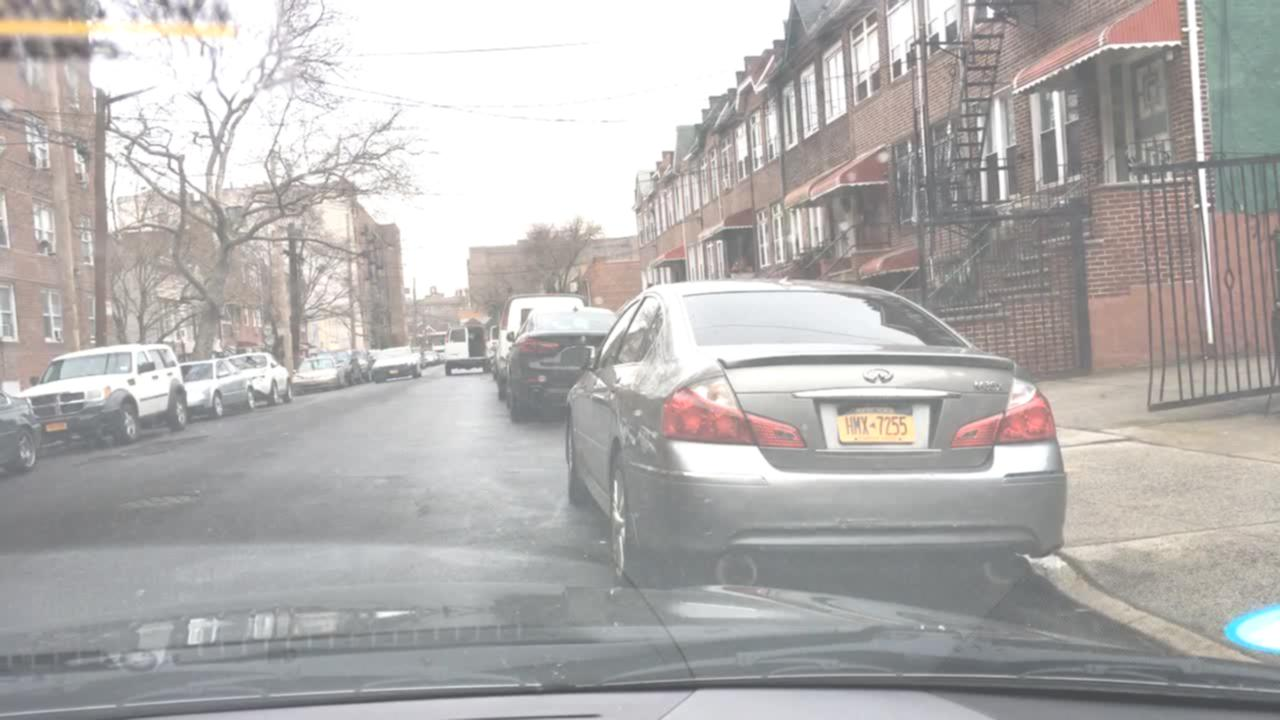Infiniti: (855, 360, 900, 390)
